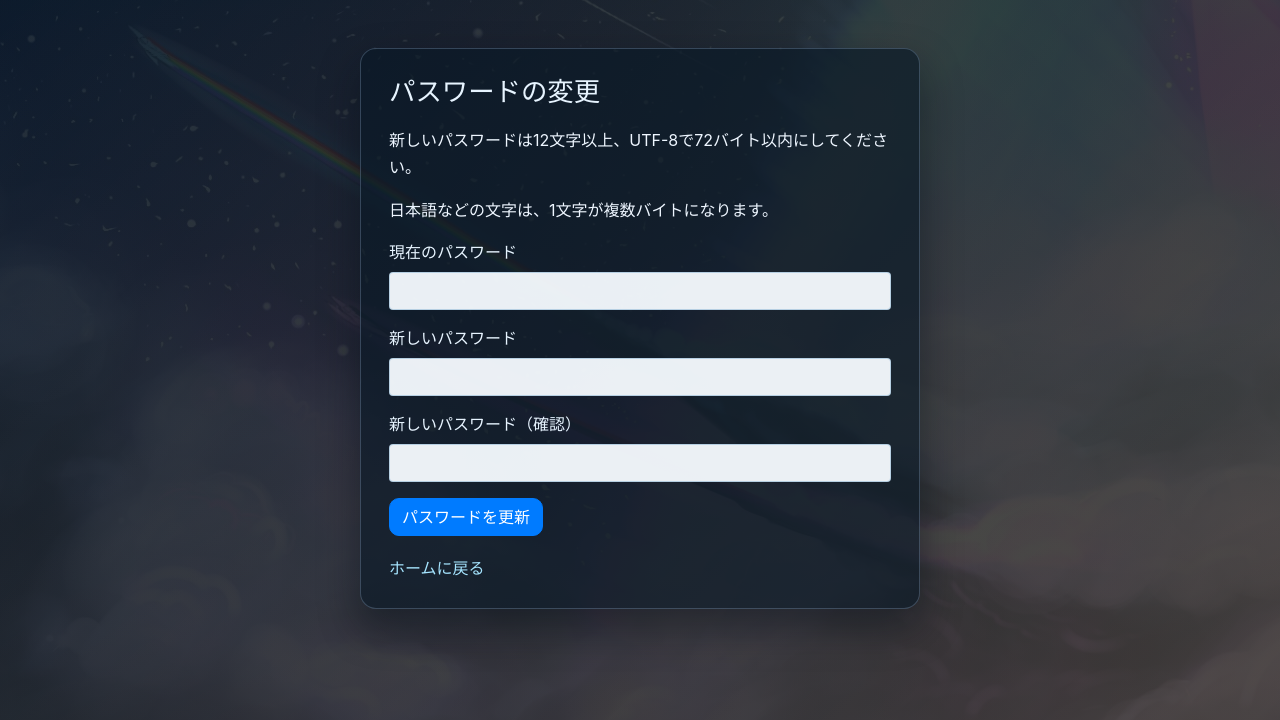
Test case: 非法输入在发送请求前拦截 0
The width and height of the screenshot is (1280, 720).
Type "old-password-123" into the password field labelled "現在のパスワード" at (640, 291), box [389,272,891,310]
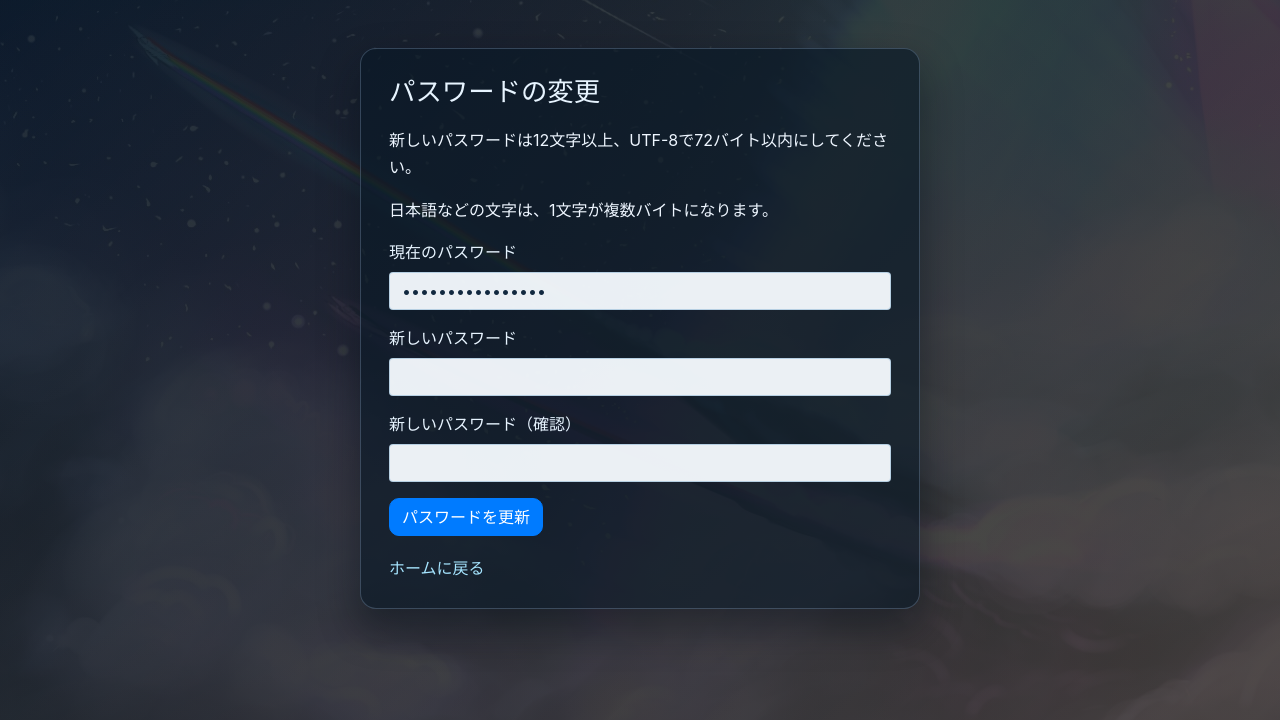
Submit the form "現在のパスワード 新しいパスワード 新しいパスワード（確認） パスワードを更新", box [389,240,891,536]
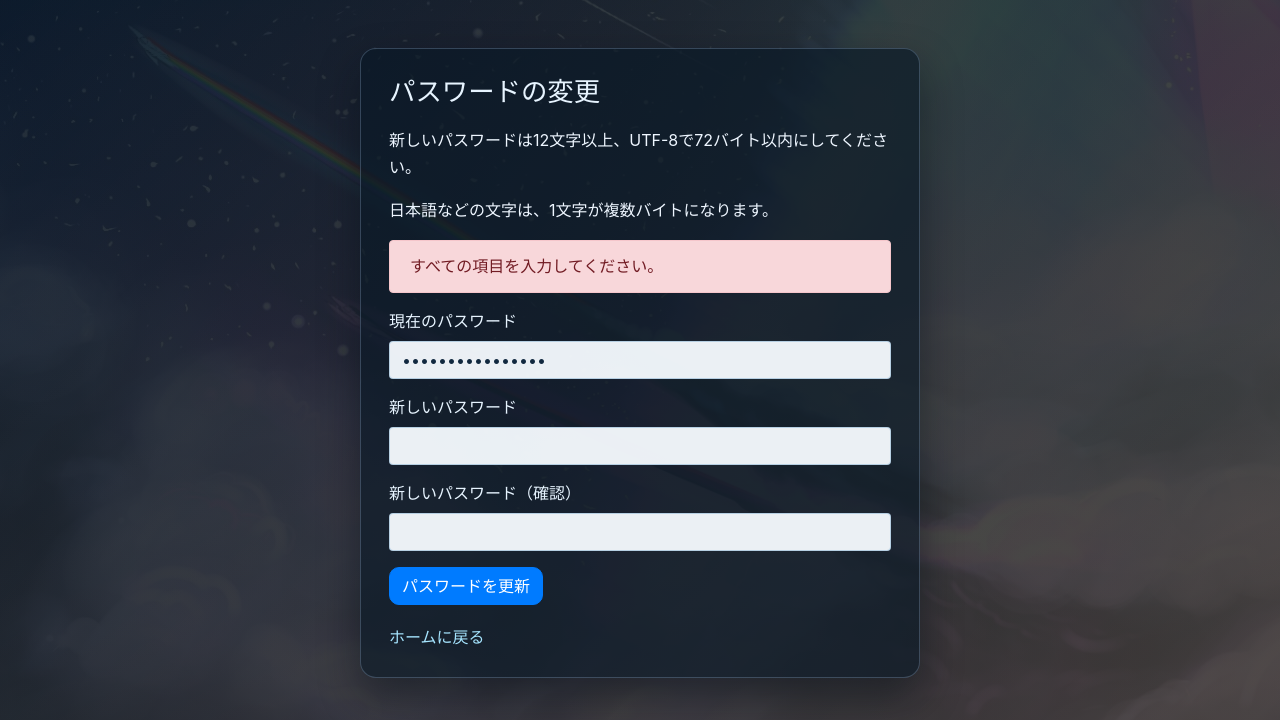
Now the message "すべての項目を入力してください。" is shown, box [389,240,891,294]
